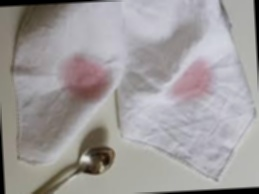wine: (55, 51, 115, 96), (171, 66, 213, 105)
